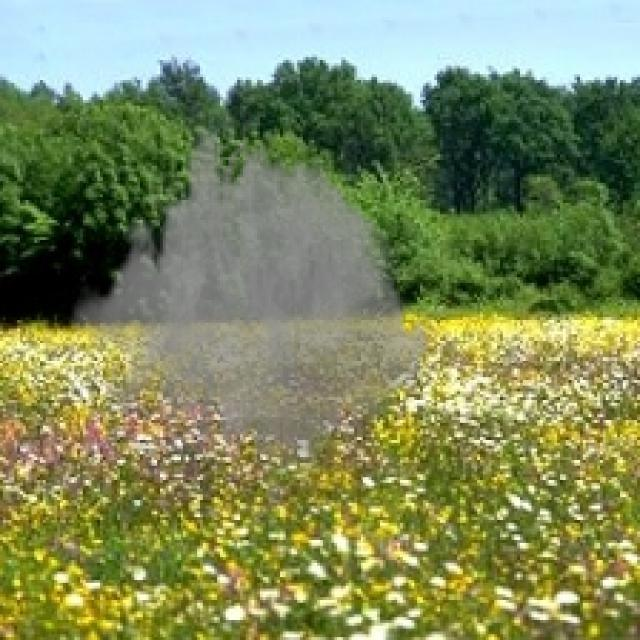Smoke: (69, 108, 432, 503)
